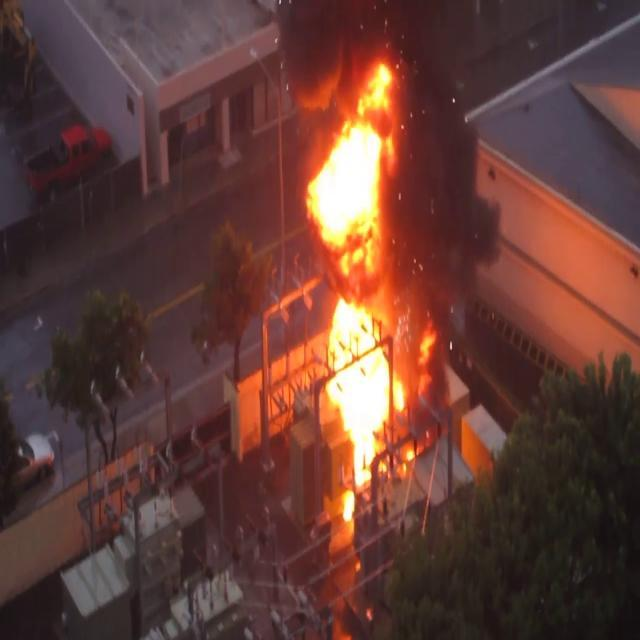Fire: (290, 56, 422, 498)
